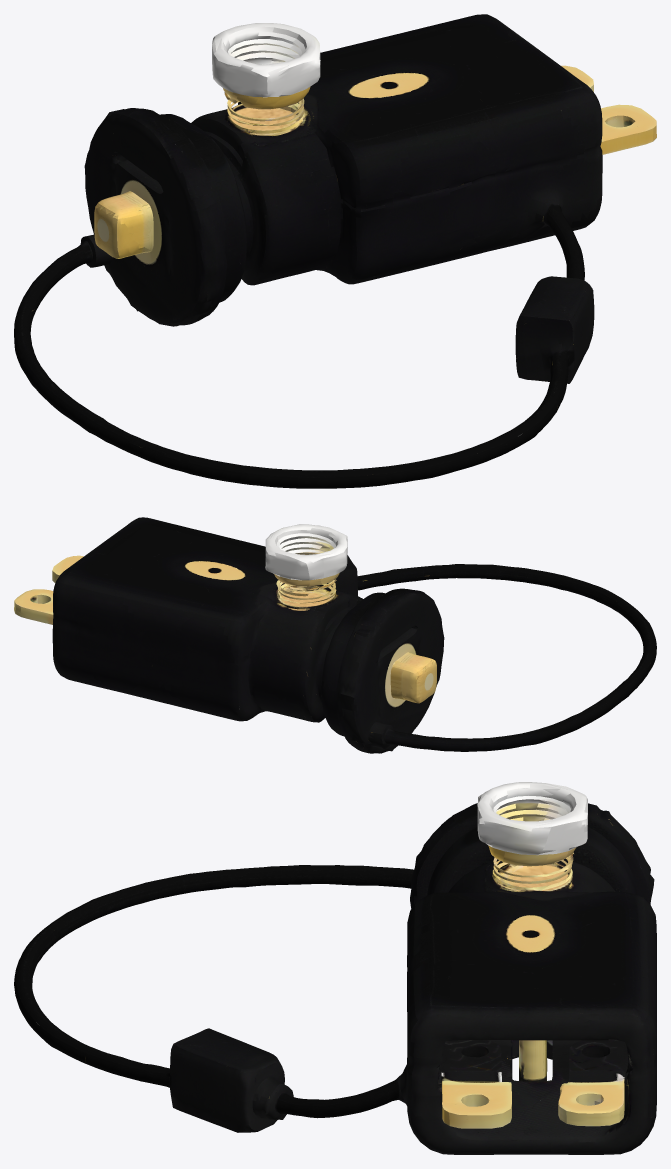
The model's file is ibs-sensor.glb.
The picture shows the model from 3 angles, top to bottom: view 1: azimuth 30°, elevation 25°; view 2: azimuth 150°, elevation 25°; view 3: azimuth 270°, elevation 25°; orthographic projection. The views are drawn at different scales.
Size of the model in its own units: 1.9 by 0.6676 by 1.58.
1 material, 1 textured.
